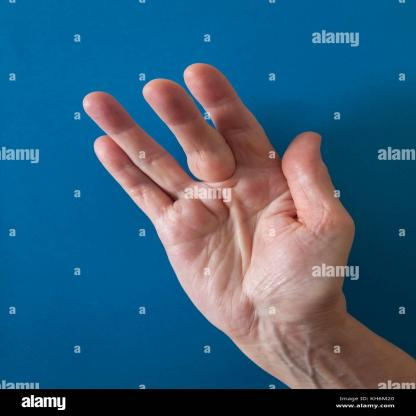Thumbs-Up: (68, 59, 380, 368)
